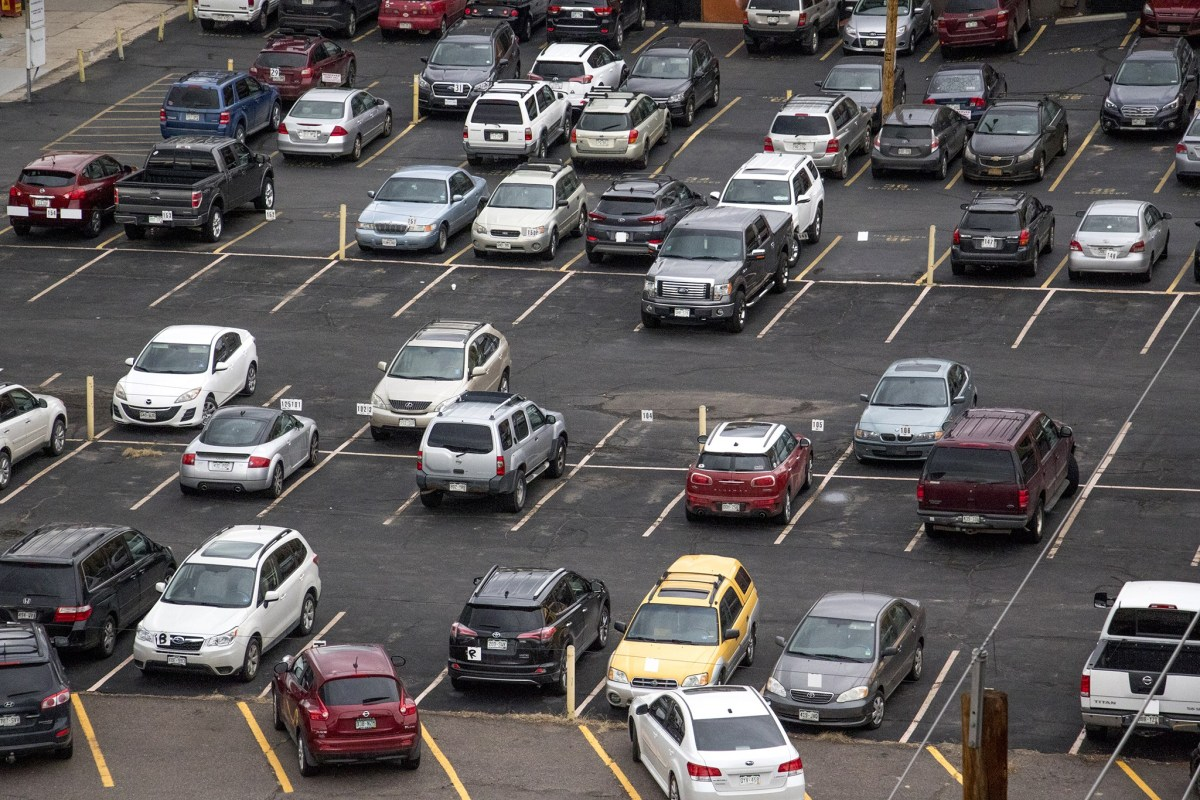car: (136, 521, 324, 680), (605, 552, 763, 711), (445, 547, 608, 699), (760, 591, 928, 737), (1, 524, 173, 661), (265, 640, 429, 779), (917, 405, 1079, 545), (627, 683, 809, 800), (1079, 577, 1200, 744), (640, 203, 793, 332), (113, 128, 281, 245), (415, 389, 571, 515), (367, 316, 511, 443), (112, 320, 259, 432), (684, 413, 813, 523), (856, 359, 979, 468), (179, 404, 321, 497), (353, 161, 489, 256), (716, 149, 825, 264), (471, 157, 588, 264), (9, 149, 131, 244), (585, 173, 715, 261), (1, 620, 79, 765), (1099, 33, 1200, 137), (415, 20, 525, 115), (620, 36, 724, 131), (963, 92, 1071, 183), (948, 189, 1055, 279), (768, 81, 868, 175), (276, 79, 392, 160), (1071, 192, 1172, 281), (573, 80, 673, 168), (164, 67, 269, 145), (463, 77, 565, 156), (873, 97, 964, 183), (1, 381, 69, 491), (248, 37, 355, 103), (812, 57, 904, 133), (533, 36, 627, 108), (932, 1, 1032, 56), (925, 64, 1007, 131), (743, 1, 839, 57), (844, 1, 933, 53), (549, 1, 651, 44), (277, 1, 376, 41), (189, 1, 276, 33), (377, 1, 453, 37), (464, 1, 545, 33), (1172, 99, 1200, 181), (1140, 1, 1200, 35)
